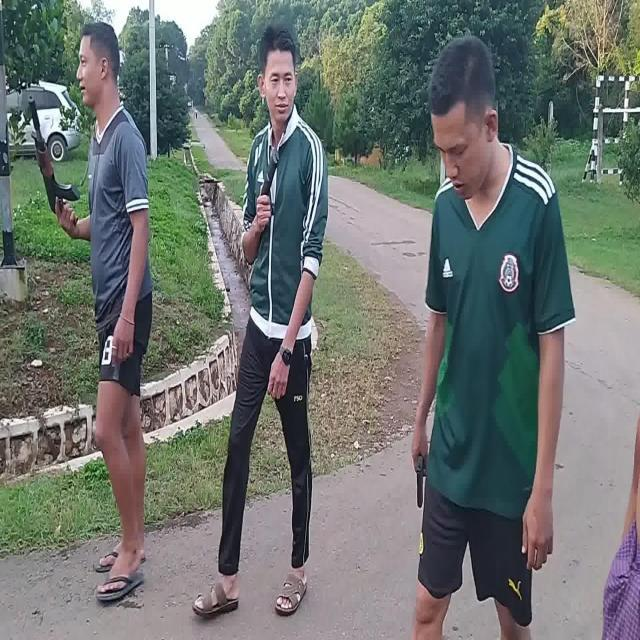gun: (28, 95, 80, 225), (416, 457, 422, 509)
